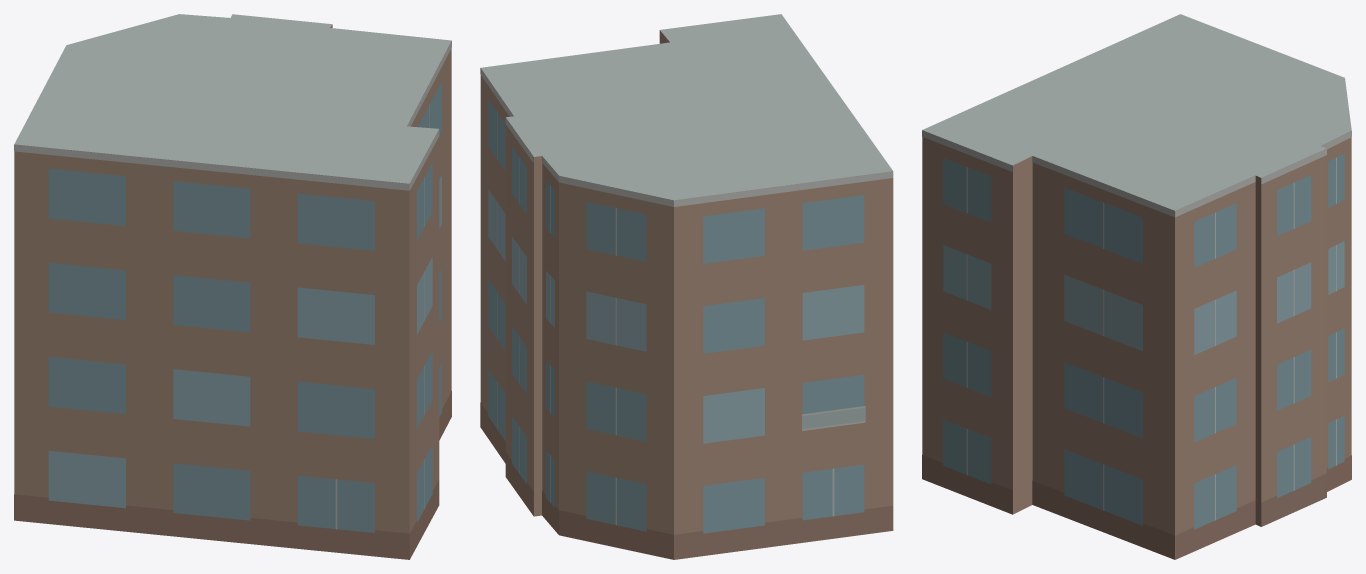
The model's file is survey-upis-32944917.glb.
3 renders of one model, left to right at view 1: azimuth 30°, elevation 25°; view 2: azimuth 150°, elevation 25°; view 3: azimuth 270°, elevation 25°, orthographic. The views are drawn at different scales.
Visible parts, largest first — view 1: survey-upis-32944917.tmp; view 2: survey-upis-32944917.tmp; view 3: survey-upis-32944917.tmp.
Part boxes in pixels (x1=…): survey-upis-32944917.tmp: x1=14, y1=14, x2=451, y2=559; survey-upis-32944917.tmp: x1=480, y1=14, x2=893, y2=559; survey-upis-32944917.tmp: x1=922, y1=14, x2=1351, y2=559.
Bounding box in the file's own units: 15.79 × 13.05 × 14.57.
